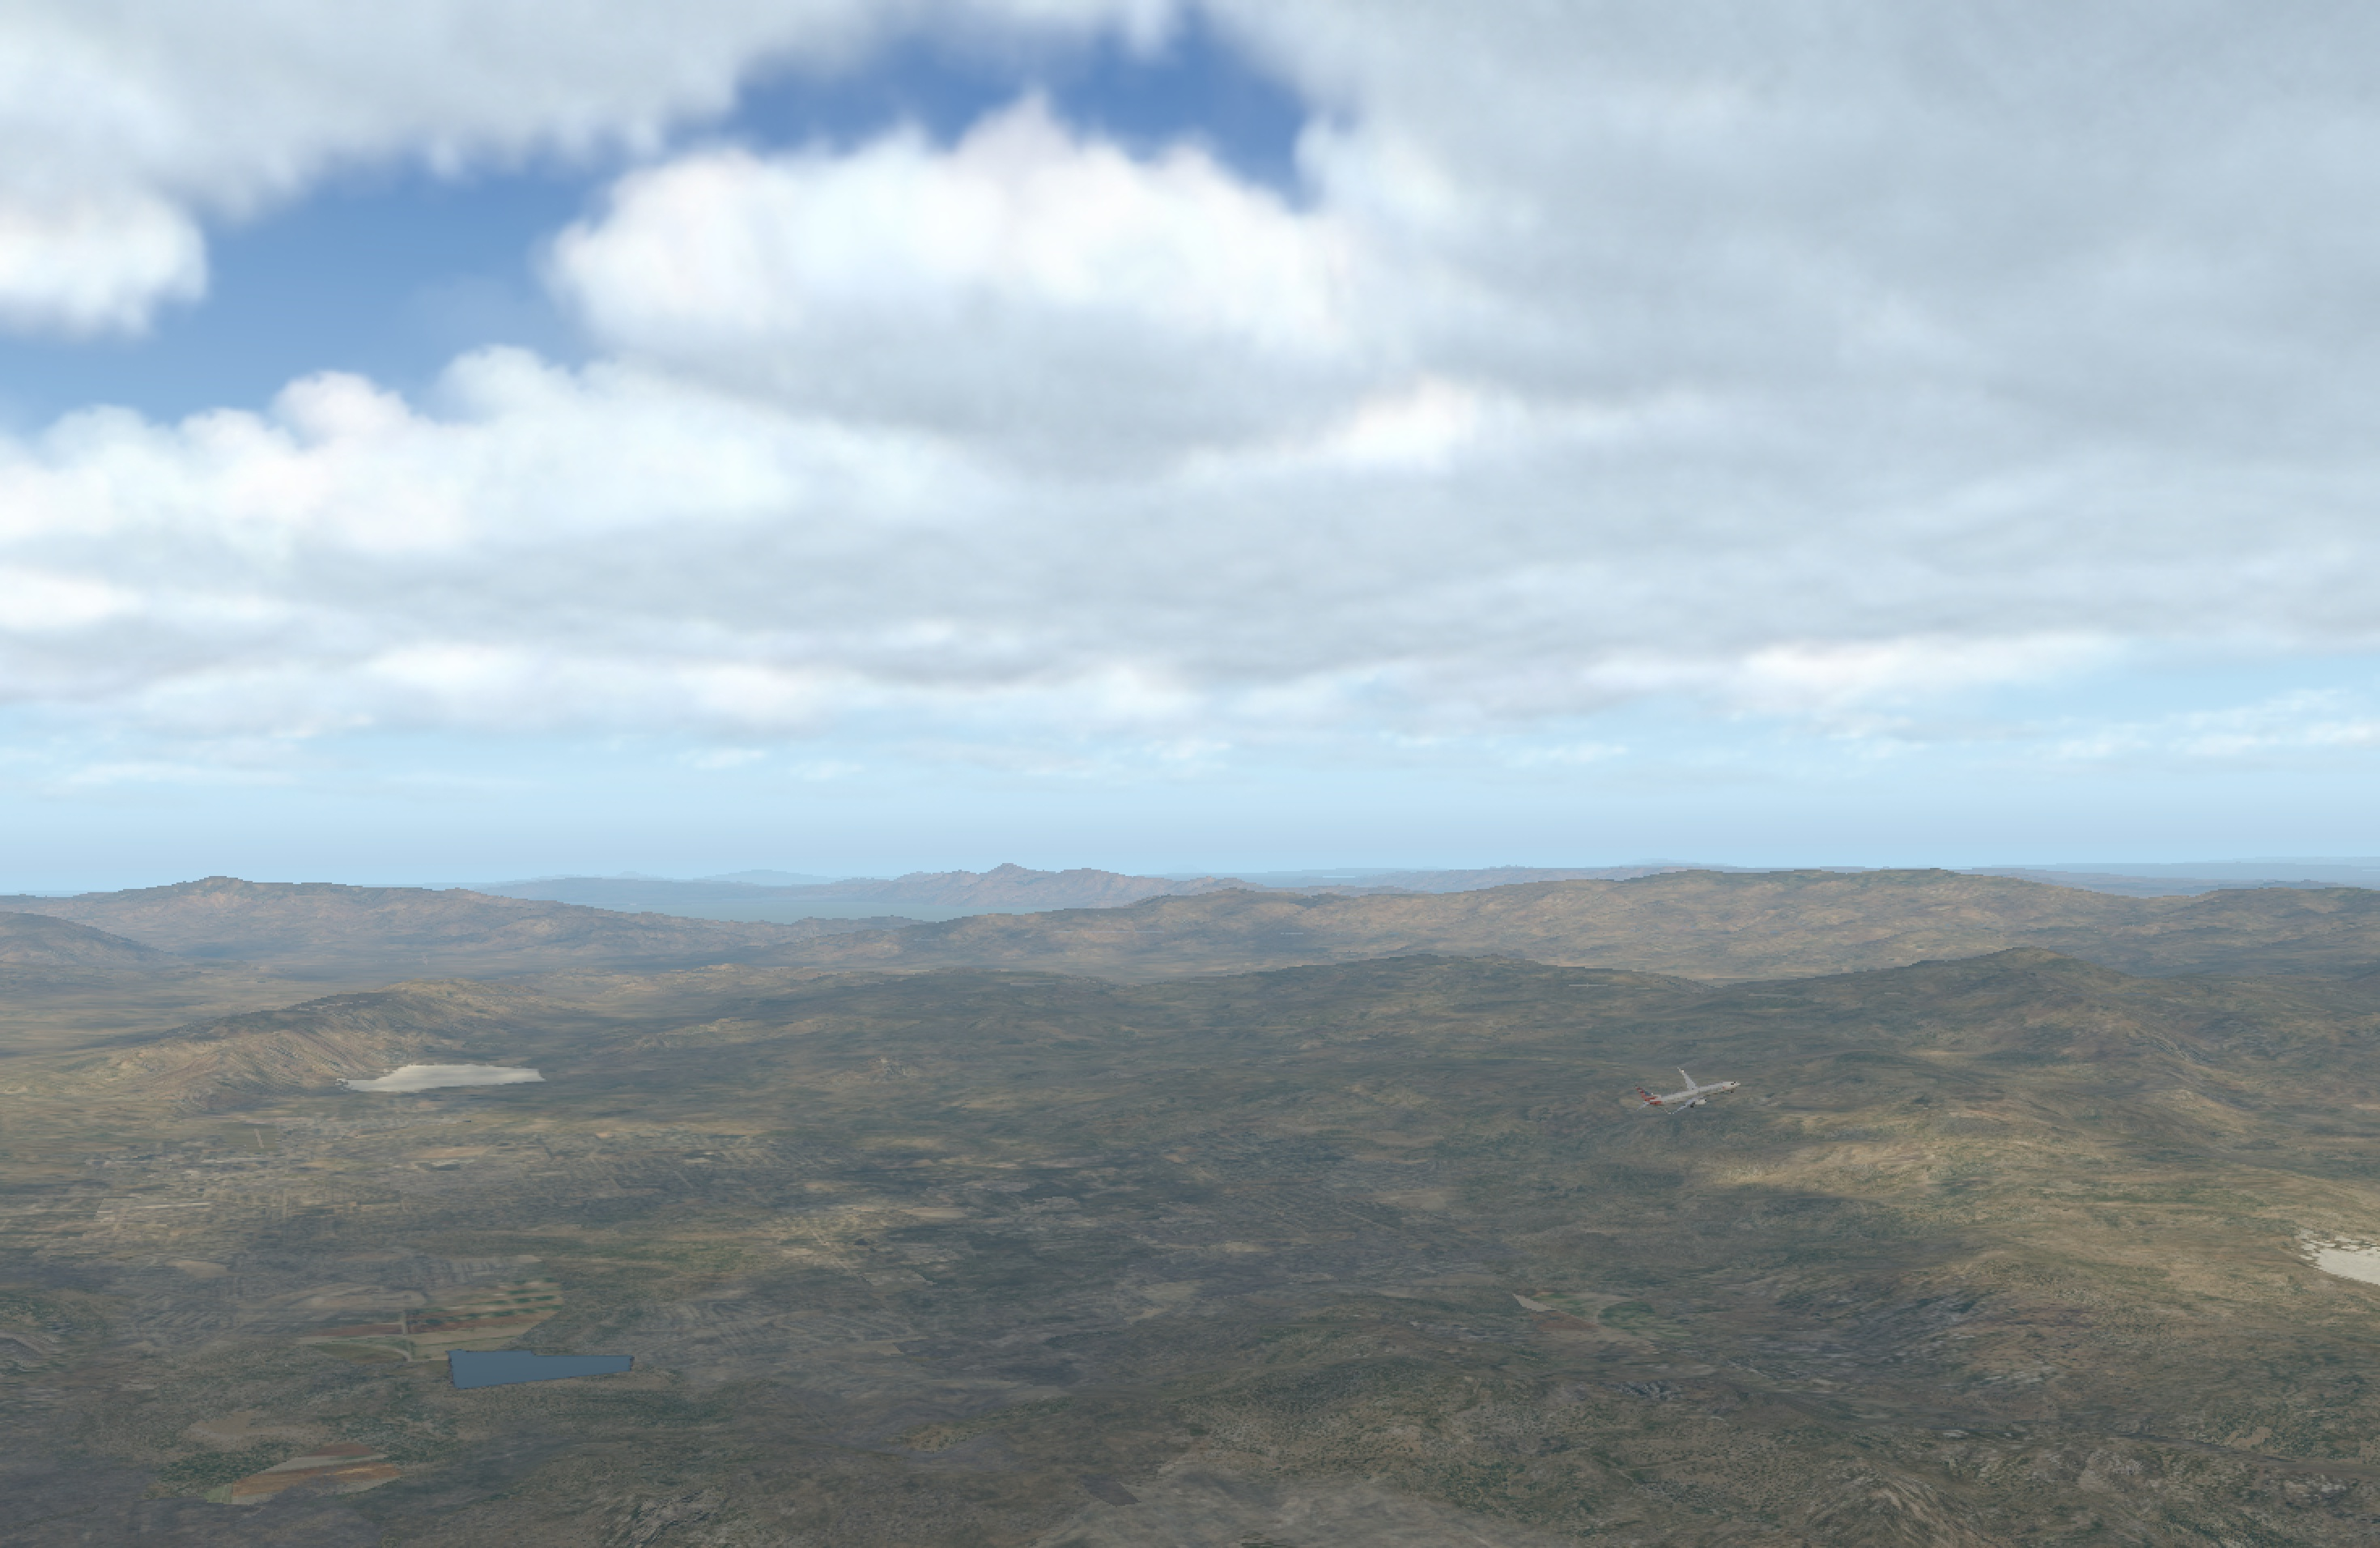aircraft: (1644, 1076, 1743, 1114)
